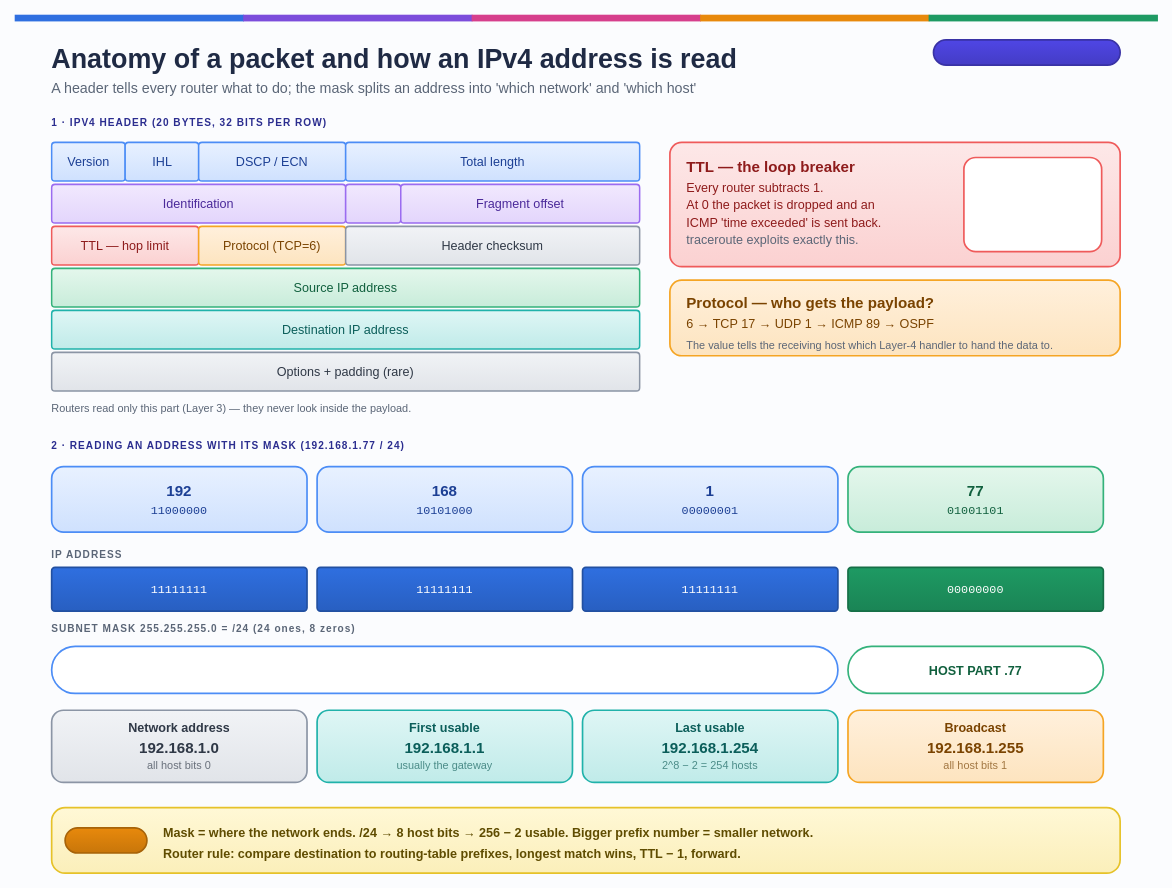
This 1172x888 diagram has some shape labels left out. The centre of each missing label's shape, as x and y in pixels:
"64 start → 63 → 62 → …" belongs at (x=1032, y=204).
"Flags" belongs at (x=372, y=203).
"NETWORK PART 192.168.1.0 — identical for every device on this LAN" belongs at (x=444, y=669).
"REMEMBER" belongs at (x=105, y=840).
"STAGE 02 · PACKETS & IP" belongs at (x=1026, y=52).
